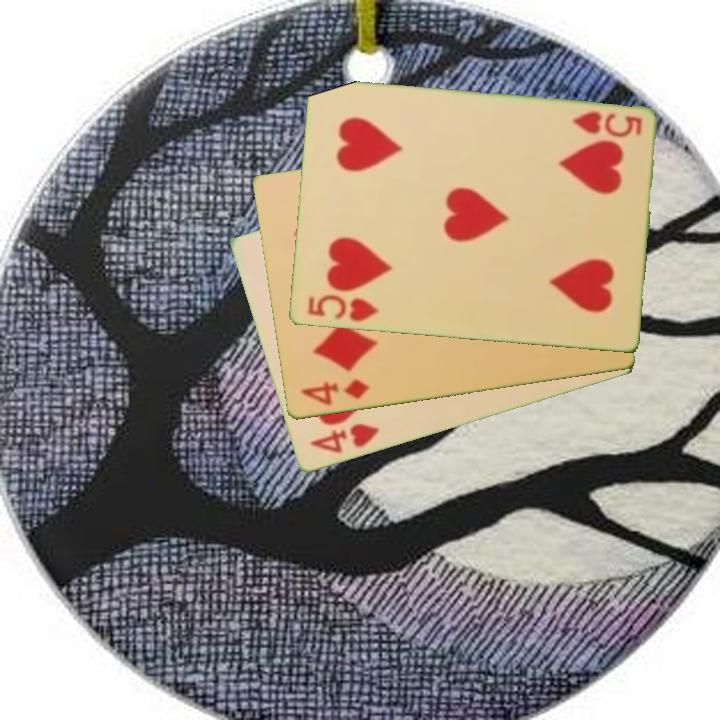4d: (297, 376, 372, 409)
4h: (306, 420, 382, 457)
5h: (303, 291, 381, 325), (569, 108, 644, 141)
